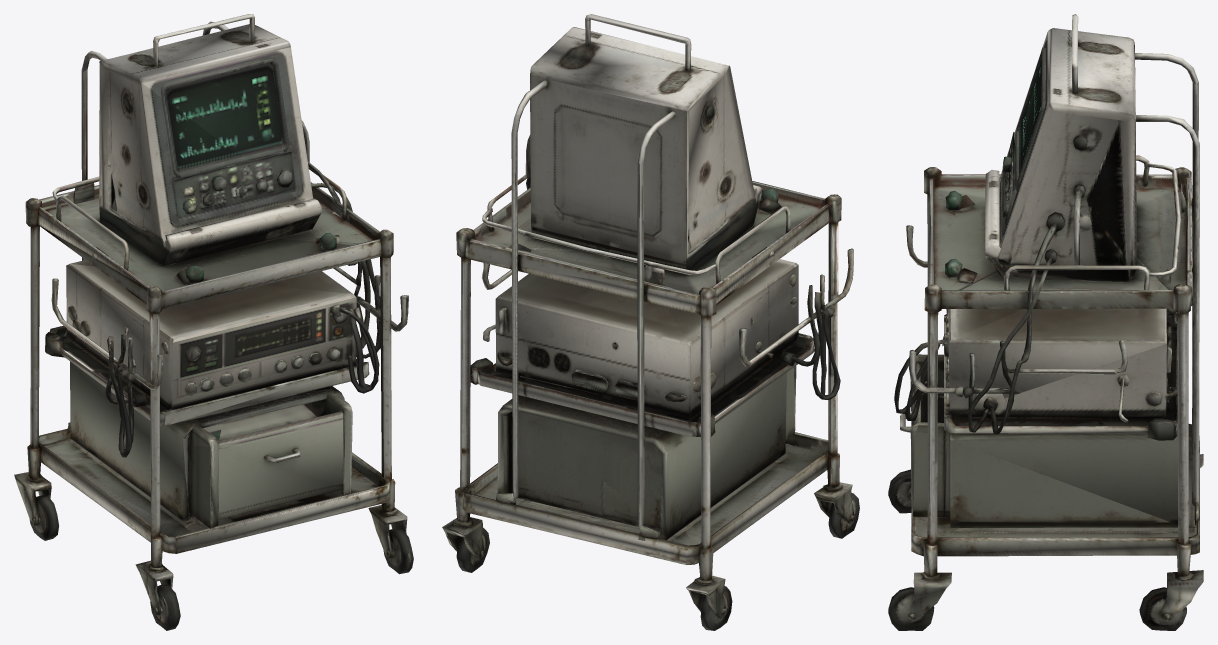
The model's file is Medical‑Cart.fbx.
3 views of the same model, side by side, from view 1: azimuth 30°, elevation 25°; view 2: azimuth 150°, elevation 25°; view 3: azimuth 270°, elevation 25° (orthographic). The views are drawn at different scales.
Visible parts, largest first — view 1: mesh_node; view 2: mesh_node; view 3: mesh_node.
Boxes of the visible parts, bbox=[...] form: mesh_node: bbox=[14, 14, 413, 630]; mesh_node: bbox=[442, 14, 859, 630]; mesh_node: bbox=[888, 14, 1203, 630].
Bounding box in the file's own units: 55.27 × 100 × 53.71.
Materials: 1 (1 with a texture image).
